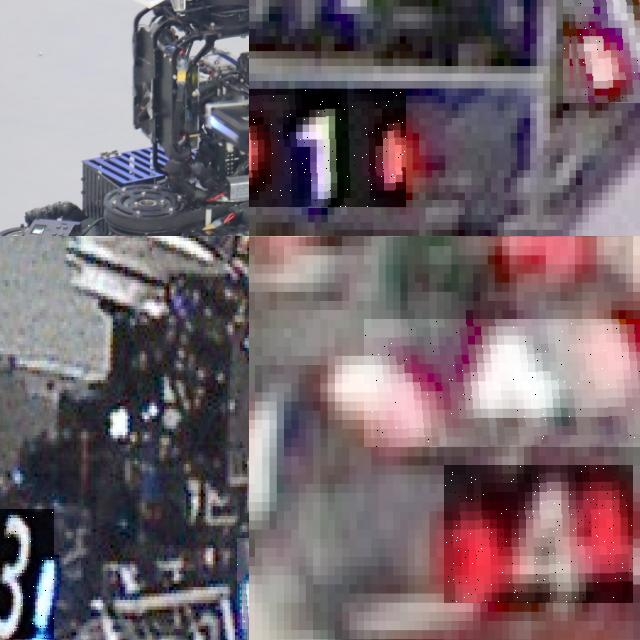B3: (0, 509, 54, 638)
R1: (249, 88, 406, 207), (563, 0, 640, 103)
R4: (363, 319, 640, 447), (444, 465, 633, 603)
